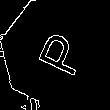P_NW: (25, 25, 85, 80)
